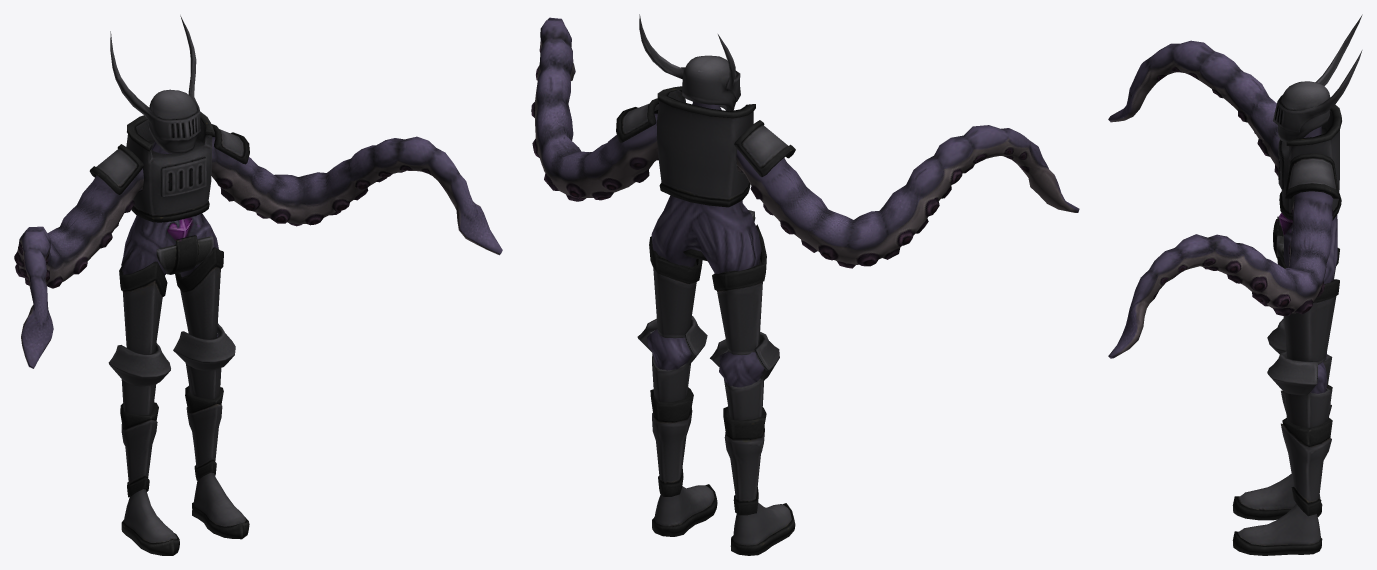
The model's file is tentacleKnight.obj.
The picture shows the model from 3 angles, left to right: view 1: azimuth 30°, elevation 25°; view 2: azimuth 150°, elevation 25°; view 3: azimuth 270°, elevation 25°; orthographic projection. The views are drawn at different scales.
Visible parts, largest first — view 1: KEY_Knight:Key_Knight:polySurface2 KEY_Knight:Key_Knight:polySur, KEY_Knight:Key_Knight:armor1 KEY_Knight:Key_Knight:polySurface2 , KEY_Knight:Key_Knight:armor KEY_Knight:Key_Knight:polySurface2 K; view 2: KEY_Knight:Key_Knight:polySurface2 KEY_Knight:Key_Knight:polySur, KEY_Knight:Key_Knight:armor1 KEY_Knight:Key_Knight:polySurface2 , KEY_Knight:Key_Knight:armor KEY_Knight:Key_Knight:polySurface2 K; view 3: KEY_Knight:Key_Knight:polySurface2 KEY_Knight:Key_Knight:polySur, KEY_Knight:Key_Knight:armor KEY_Knight:Key_Knight:polySurface2 K, KEY_Knight:Key_Knight:armor1 KEY_Knight:Key_Knight:polySurface2 .
Part boxes in pixels (left/top/right/bottom): KEY_Knight:Key_Knight:polySurface2 KEY_Knight:Key_Knight:polySur: left=14, top=136, right=502, bottom=368; KEY_Knight:Key_Knight:armor1 KEY_Knight:Key_Knight:polySurface2 : left=89, top=112, right=249, bottom=497; KEY_Knight:Key_Knight:armor KEY_Knight:Key_Knight:polySurface2 K: left=110, top=15, right=249, bottom=555; KEY_Knight:Key_Knight:polySurface2 KEY_Knight:Key_Knight:polySur: left=531, top=17, right=1079, bottom=387; KEY_Knight:Key_Knight:armor1 KEY_Knight:Key_Knight:polySurface2 : left=616, top=86, right=795, bottom=515; KEY_Knight:Key_Knight:armor KEY_Knight:Key_Knight:polySurface2 K: left=639, top=14, right=795, bottom=555; KEY_Knight:Key_Knight:polySurface2 KEY_Knight:Key_Knight:polySur: left=1108, top=40, right=1337, bottom=393; KEY_Knight:Key_Knight:armor KEY_Knight:Key_Knight:polySurface2 K: left=1232, top=14, right=1362, bottom=555; KEY_Knight:Key_Knight:armor1 KEY_Knight:Key_Knight:polySurface2 : left=1267, top=104, right=1341, bottom=516.
Size of the model in its own units: 2.97 by 2.88 by 1.33.
1 material, 1 textured.
